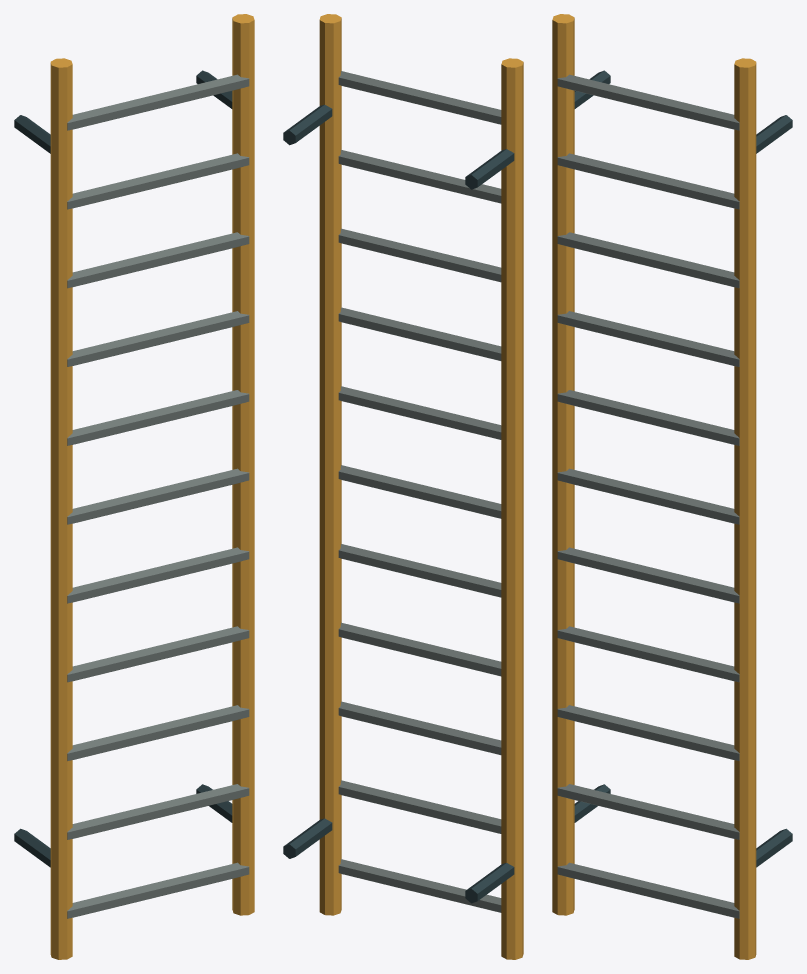
Rendered from ladder.glb.
3 views of the same model, side by side, from view 1: azimuth 30°, elevation 25°; view 2: azimuth 150°, elevation 25°; view 3: azimuth 330°, elevation 25° (orthographic).
Parts seen in each view (by area): view 1: ladder__ladder__amber, ladder__ladder__hardware, ladder__ladder__steel; view 2: ladder__ladder__amber, ladder__ladder__hardware, ladder__ladder__steel; view 3: ladder__ladder__amber, ladder__ladder__hardware, ladder__ladder__steel.
Part boxes in pixels (x1=…): ladder__ladder__amber: x1=50, y1=14, x2=254, y2=959; ladder__ladder__hardware: x1=67, y1=74, x2=249, y2=918; ladder__ladder__steel: x1=14, y1=70, x2=232, y2=867; ladder__ladder__amber: x1=319, y1=14, x2=523, y2=959; ladder__ladder__hardware: x1=338, y1=71, x2=501, y2=912; ladder__ladder__steel: x1=283, y1=104, x2=514, y2=903; ladder__ladder__amber: x1=552, y1=14, x2=756, y2=959; ladder__ladder__hardware: x1=557, y1=74, x2=739, y2=918; ladder__ladder__steel: x1=574, y1=70, x2=792, y2=867.
Size of the model in its own units: 0.71 by 3 by 0.2867.
